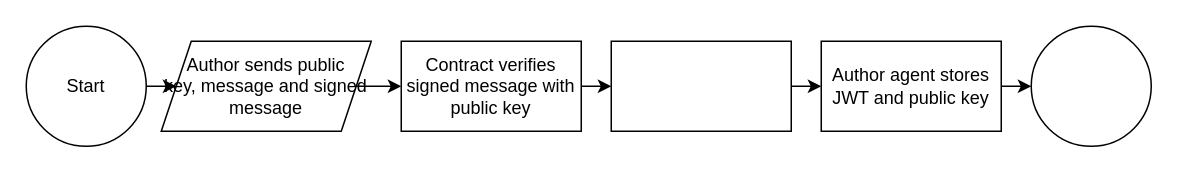
Some shapes in this 1178 by 173 pixel diagram are drawn without their labels. Each missing label, with the box of its shape:
Contract generates JWT and returns it: (610, 40, 791, 131)
End: (1030, 25, 1151, 146)
